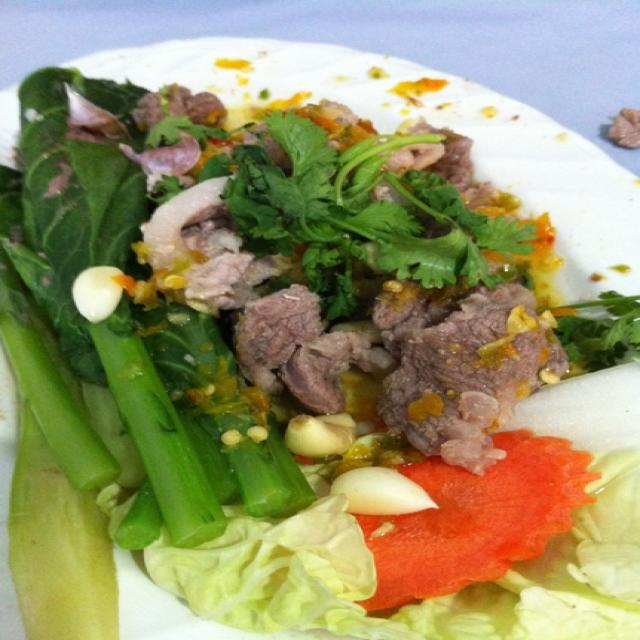猪肉菜式: (6, 29, 635, 626)
